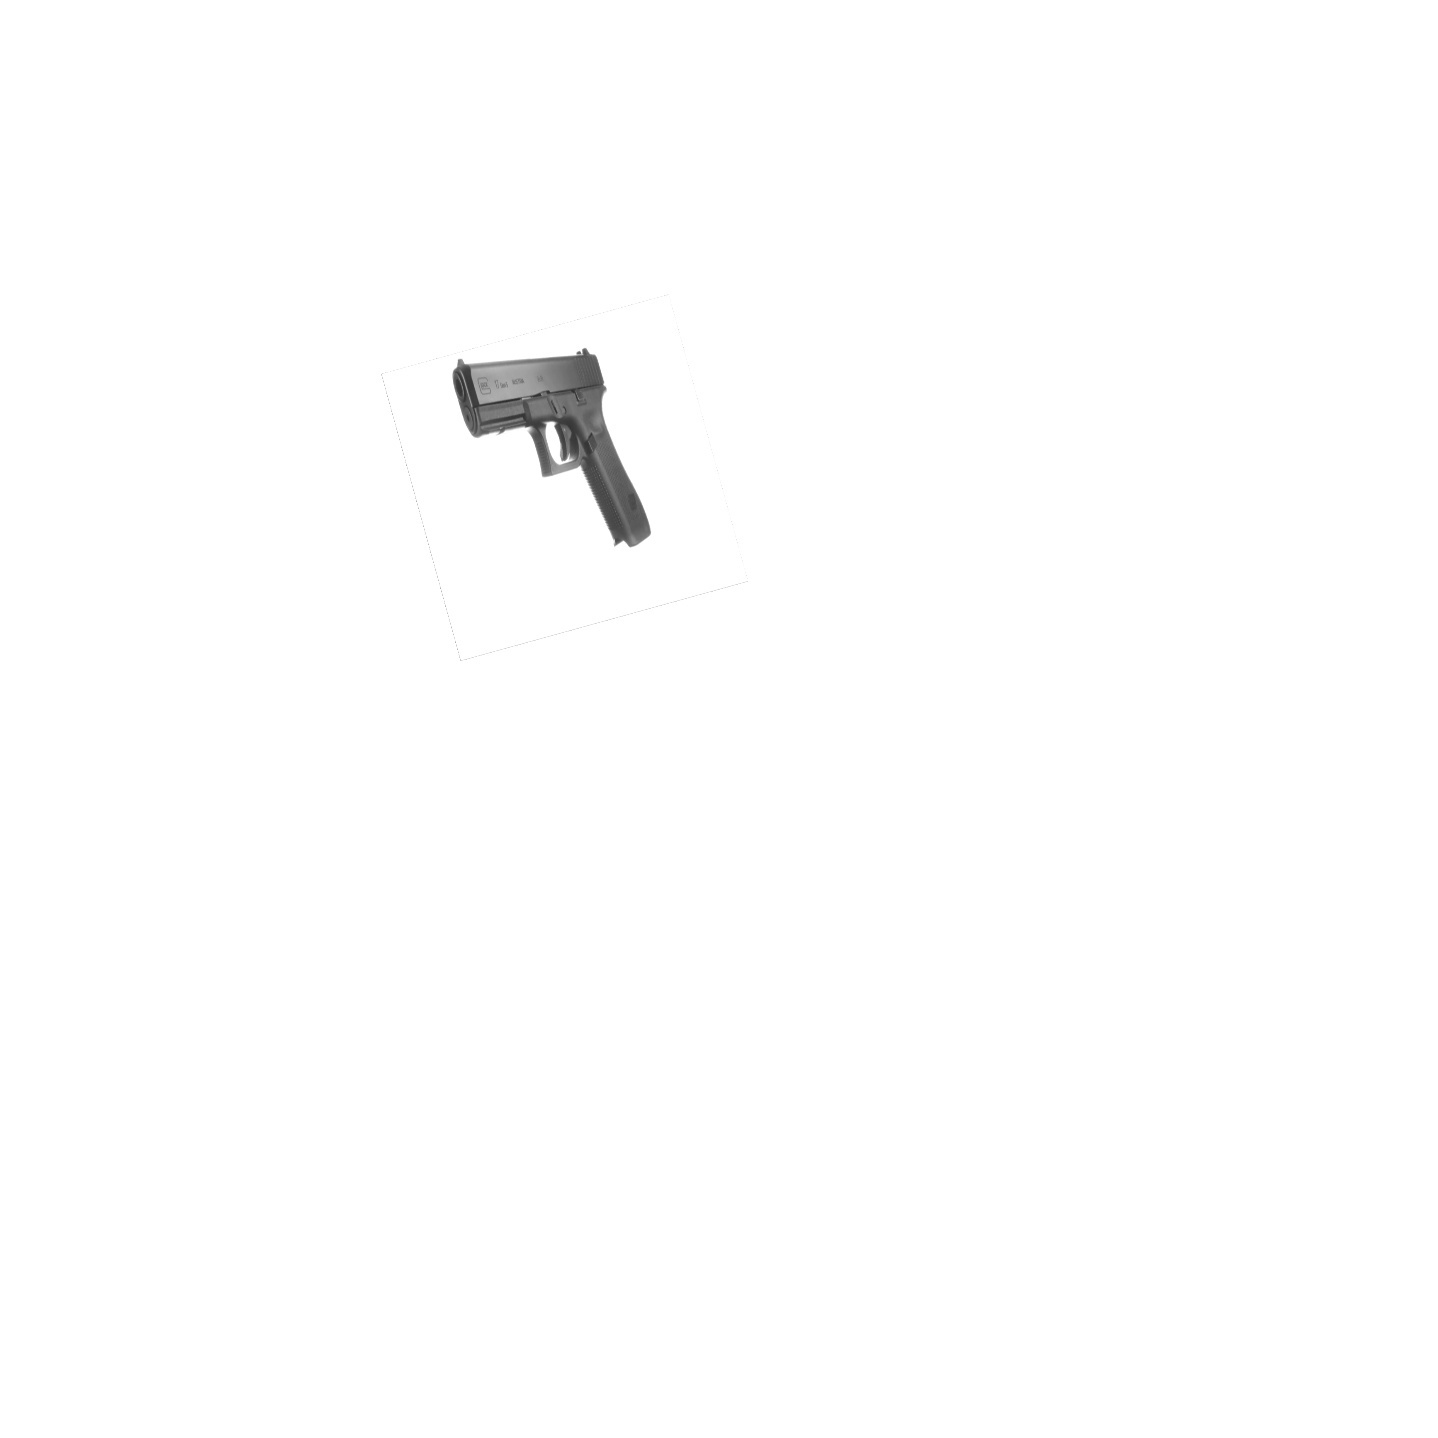gun: (448, 348, 668, 560)
